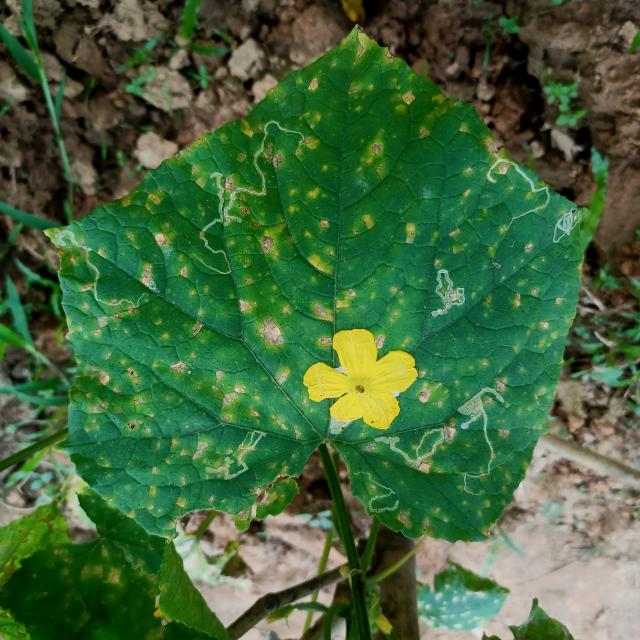disease_cucumber: (68, 76, 576, 522)
